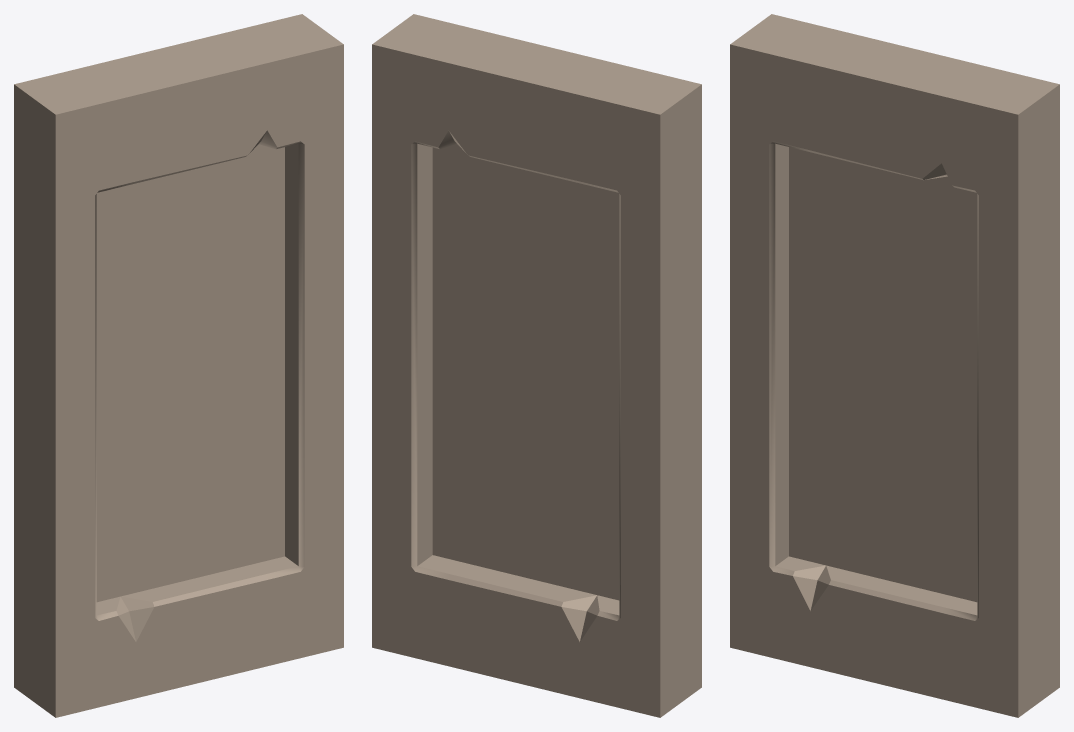
The model's file is Wall_Inside_Small.FBX.
3 renders of one model, left to right at view 1: azimuth 30°, elevation 25°; view 2: azimuth 150°, elevation 25°; view 3: azimuth 330°, elevation 25°, orthographic.
Visible parts, largest first — view 1: Wall_Inside_Small; view 2: Wall_Inside_Small; view 3: Wall_Inside_Small.
Boxes of the visible parts, left/top/right/bottom form: Wall_Inside_Small: left=14, top=14, right=343, bottom=717; Wall_Inside_Small: left=372, top=14, right=701, bottom=717; Wall_Inside_Small: left=730, top=14, right=1059, bottom=717.
Size of the model in its own units: 200 by 400 by 50.
